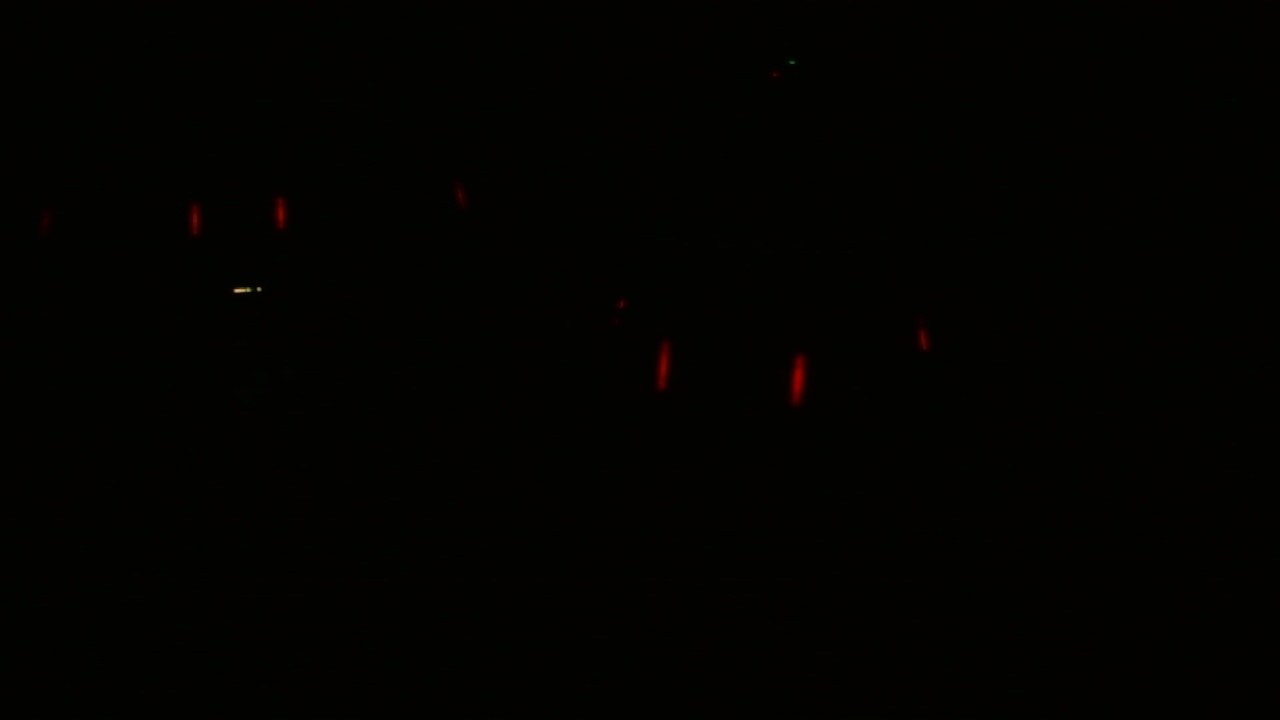pair1: (183, 187, 292, 242)
pair2: (646, 338, 813, 417)
